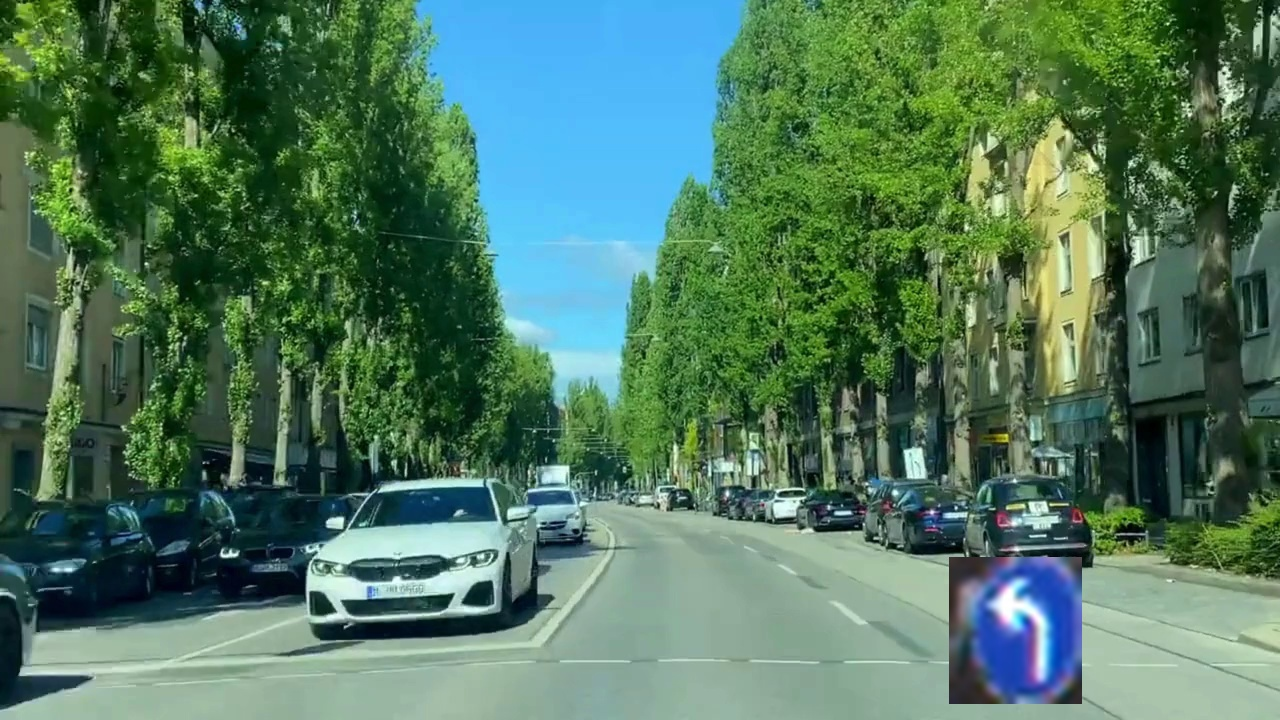Turn left: (949, 557, 1082, 704)
